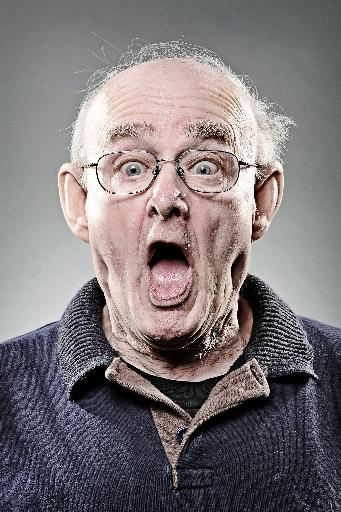left_eye: (188, 157, 225, 178)
left_lip_corner: (189, 260, 201, 277)
right_eye: (117, 161, 152, 181)
right_lip_corner: (142, 259, 154, 274)
